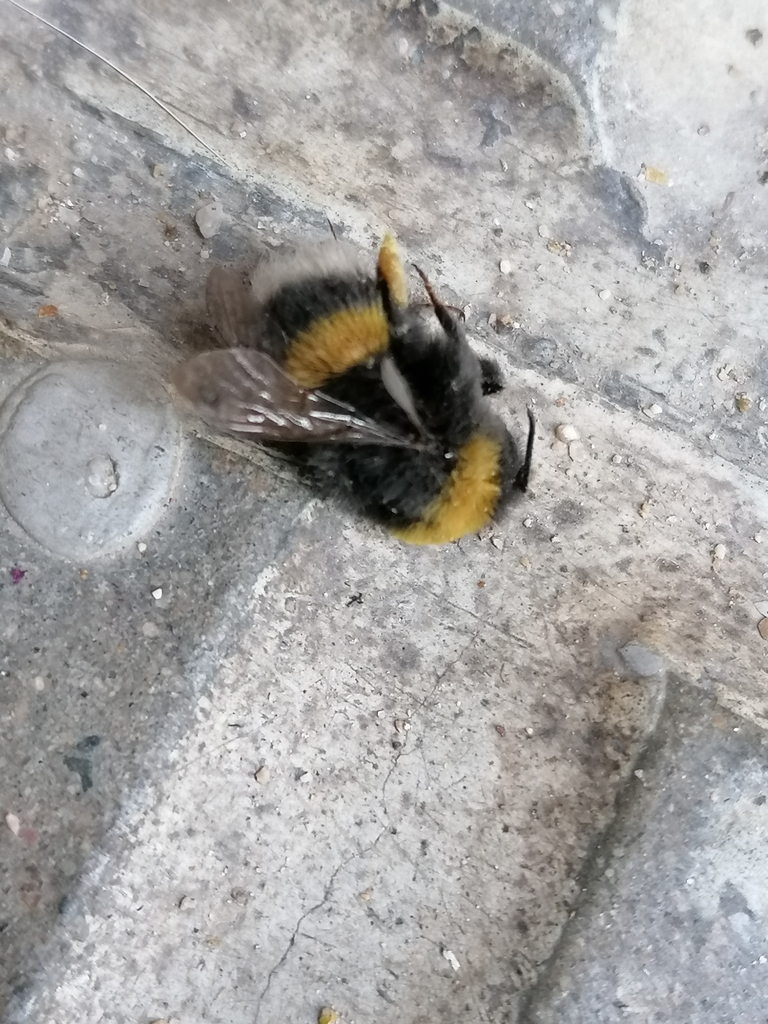bumblebee: (172, 228, 538, 550)
